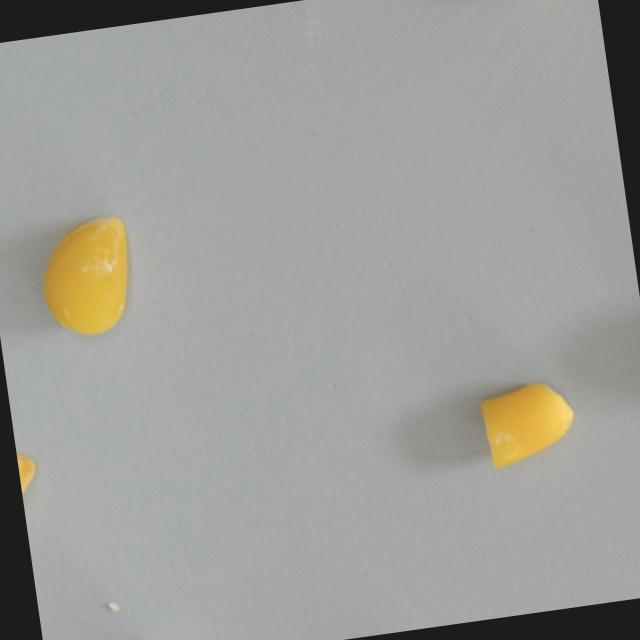pelicula: (28, 210, 156, 342), (464, 368, 590, 485)
punto_negro: (13, 434, 45, 530)
